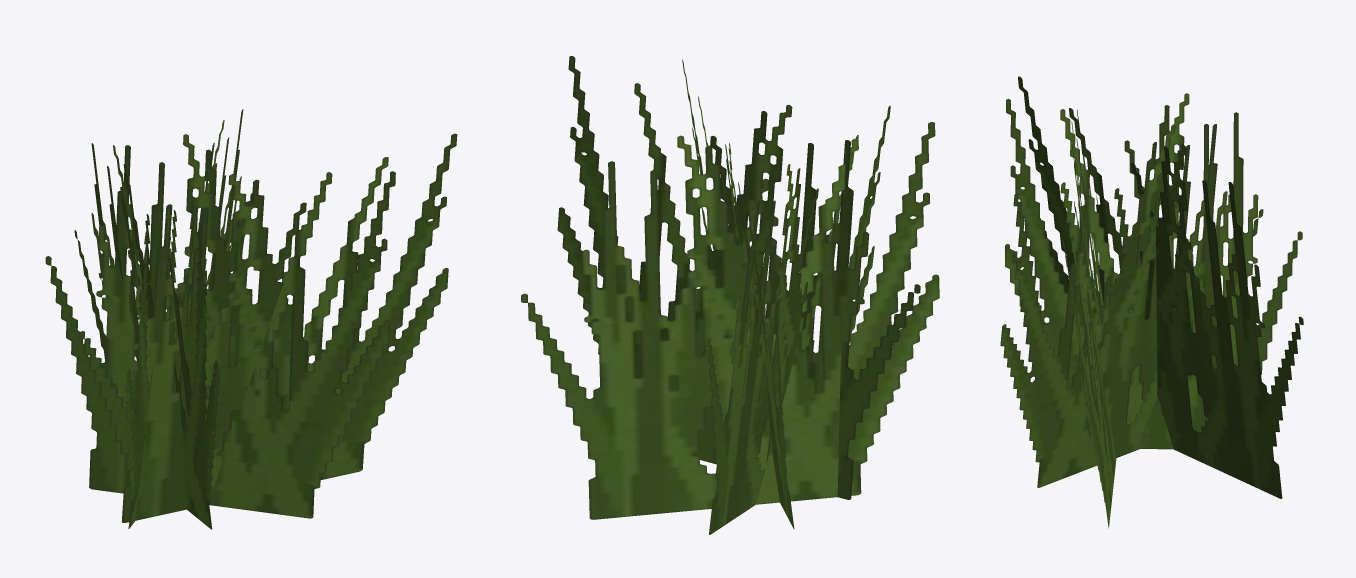
File: tuft_b.glb
3 renders of one model, left to right at view 1: azimuth 30°, elevation 25°; view 2: azimuth 150°, elevation 25°; view 3: azimuth 270°, elevation 25°, orthographic. The views are drawn at different scales.
Visible parts, largest first — view 1: town_tuft; view 2: town_tuft; view 3: town_tuft.
Boxes of the visible parts, <box> form: town_tuft: <box>45,109,457,529</box>; town_tuft: <box>521,56,939,534</box>; town_tuft: <box>1000,76,1303,528</box>.
Bounding box in the file's own units: 0.3013 × 0.28 × 0.2471.
1 material, 1 textured.
